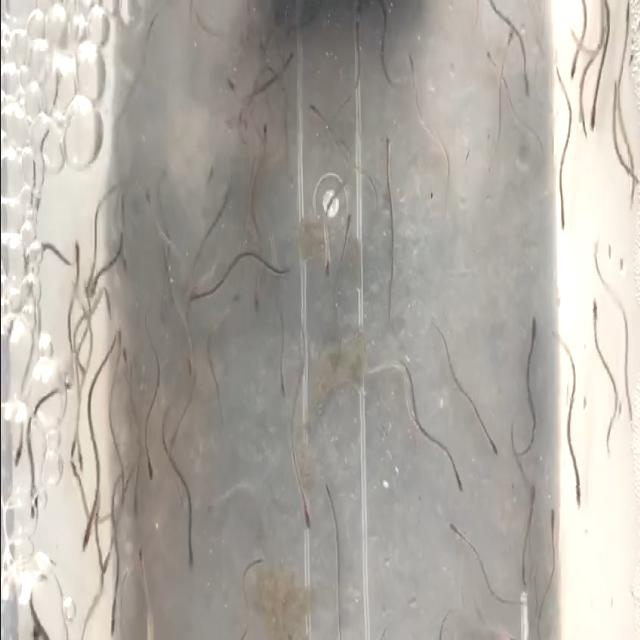active_glass_eel: (584, 288, 602, 338), (321, 230, 336, 278), (180, 532, 198, 572), (247, 274, 264, 316), (260, 108, 274, 158), (451, 463, 467, 505), (26, 476, 40, 524), (142, 184, 158, 224), (304, 100, 328, 126), (586, 104, 602, 142), (552, 197, 568, 234), (299, 496, 315, 532), (568, 473, 582, 514), (546, 507, 562, 542), (85, 262, 98, 304), (403, 47, 418, 83), (522, 312, 536, 350), (520, 62, 534, 100), (379, 130, 393, 168), (67, 413, 79, 457), (624, 400, 638, 437), (505, 16, 519, 52), (185, 334, 197, 376), (576, 101, 588, 142), (145, 442, 156, 486), (485, 432, 501, 462), (275, 366, 290, 398), (12, 432, 24, 472), (566, 49, 580, 78), (70, 462, 84, 491), (447, 522, 467, 542), (71, 238, 81, 278), (107, 604, 118, 640), (486, 45, 500, 73), (623, 0, 633, 38), (101, 542, 111, 580), (80, 518, 90, 556), (343, 212, 352, 254), (114, 320, 124, 357), (134, 546, 146, 576), (72, 442, 84, 472)
